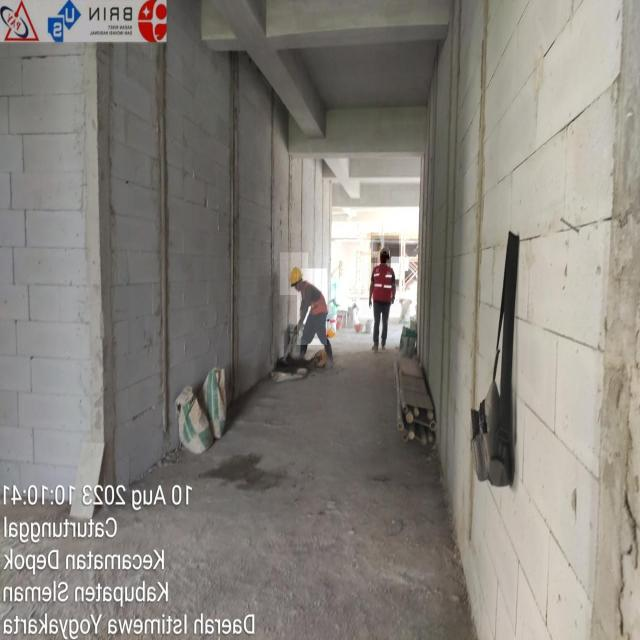Helmet: (280, 253, 308, 295), (371, 235, 399, 273)
Safety Vest: (297, 268, 327, 345), (361, 263, 405, 315)
